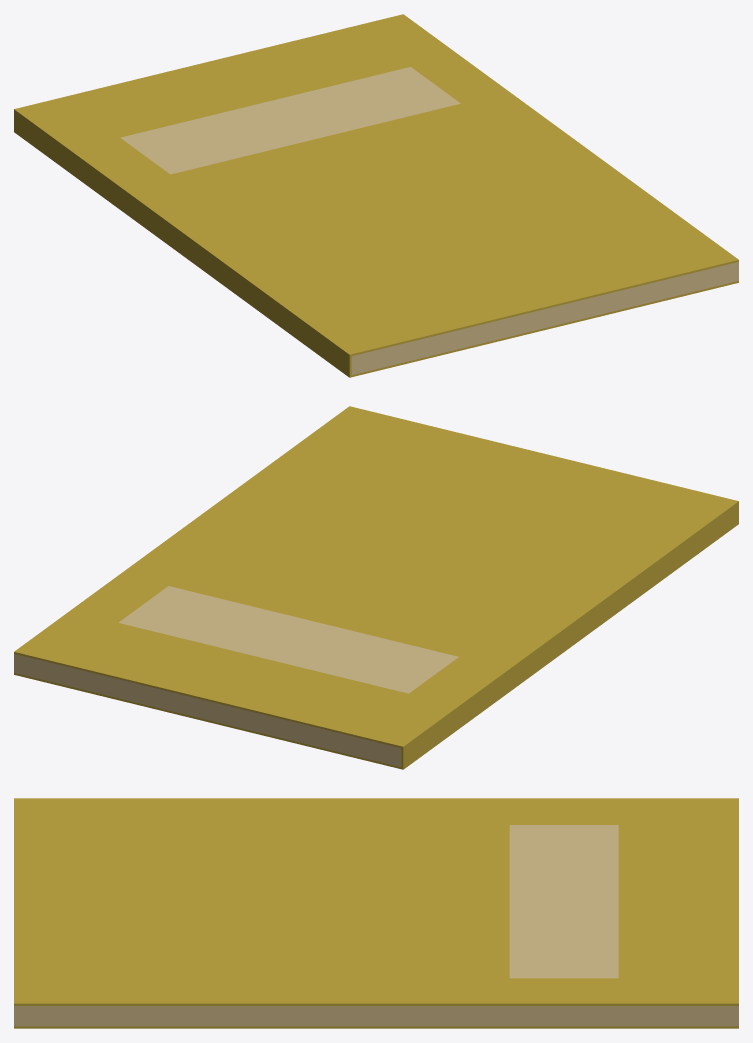
File: Book14.fbx
3 views of the same model, one above another, from view 1: azimuth 30°, elevation 25°; view 2: azimuth 150°, elevation 25°; view 3: azimuth 270°, elevation 25° (orthographic). The views are drawn at different scales.
Visible parts, largest first — view 1: Cube; view 2: Cube; view 3: Cube.
Part boxes in pixels (left/top/right/bottom): Cube: left=14, top=14, right=738, bottom=377; Cube: left=14, top=406, right=738, bottom=769; Cube: left=14, top=798, right=738, bottom=1028.
Bounding box in the file's own units: 0.201 × 0.0113 × 0.3.
